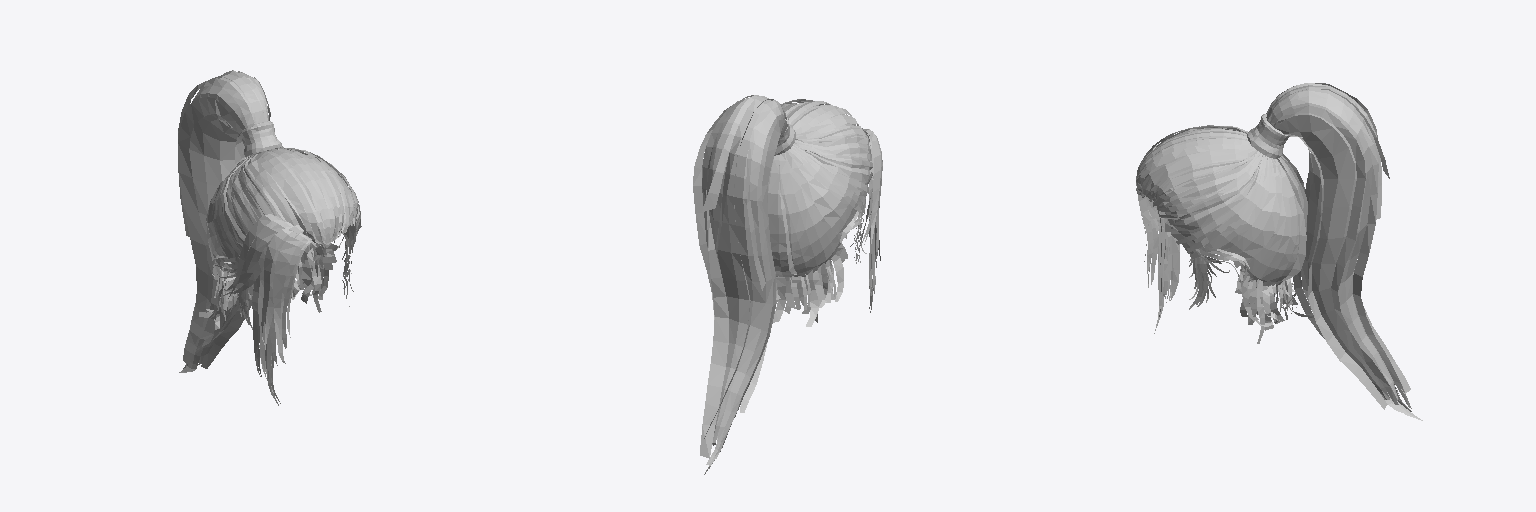
The picture shows the model from 3 angles: view 1: azimuth 30°, elevation 25°; view 2: azimuth 150°, elevation 25°; view 3: azimuth 270°, elevation 25°; orthographic projection.
Visible parts, largest first — view 1: group1 Mesh_0055_ncl1_4, group1 Mesh_0056_ncl1_3, Mesh_0093_ncl1_2 group1; view 2: group1 Mesh_0055_ncl1_4, group1 Mesh_0056_ncl1_3; view 3: group1 Mesh_0055_ncl1_4, group1 Mesh_0056_ncl1_3, Mesh_0093_ncl1_2 group1.
Boxes of the visible parts, <box> form: group1 Mesh_0055_ncl1_4: <box>178,70,316,405</box>; group1 Mesh_0056_ncl1_3: <box>199,147,361,329</box>; Mesh_0093_ncl1_2 group1: <box>240,121,282,156</box>; group1 Mesh_0055_ncl1_4: <box>693,95,882,474</box>; group1 Mesh_0056_ncl1_3: <box>767,99,882,326</box>; group1 Mesh_0055_ncl1_4: <box>1138,83,1422,420</box>; group1 Mesh_0056_ncl1_3: <box>1136,125,1313,343</box>; Mesh_0093_ncl1_2 group1: <box>1247,114,1290,158</box>.
Bounding box in the file's own units: 36.55 × 89.24 × 69.21.